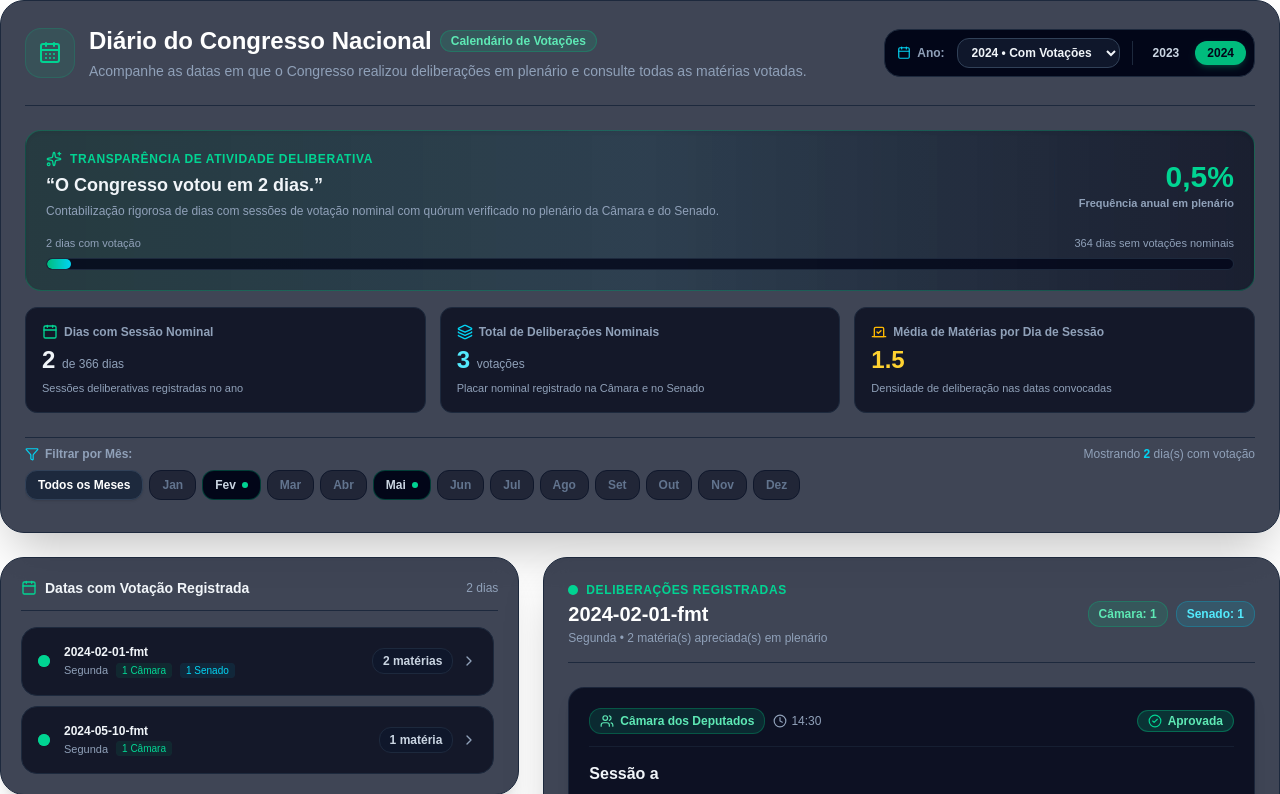
VotingCalendarPanel › seleciona outra data e filtra por mês (meses sem votação ficam desabilitados)
The image size is (1280, 794).
Check: the heading "Sessão a" is shown, box [589,765,659,782]
Click the button "2024-05-10-fmt Segunda 1 Câmara 1 matéria" at x=106, y=730, box [21,706,494,774]
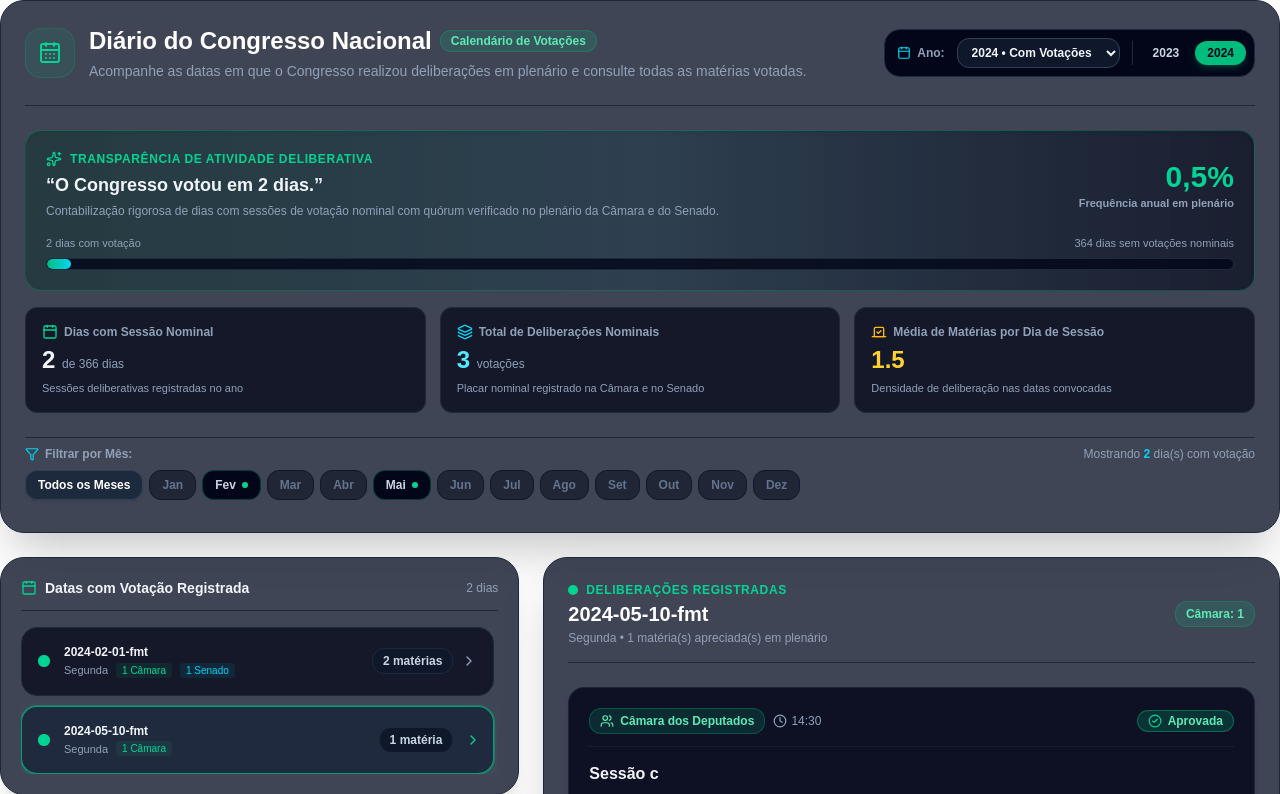
Check: the button "Jan" is disabled, box [150,470,196,500]
Check: the heading "Sessão c" is shown, box [589,765,659,782]
Check: the heading "Sessão a" is gone
Click the button "Fev" at x=232, y=485, box [202,470,261,500]
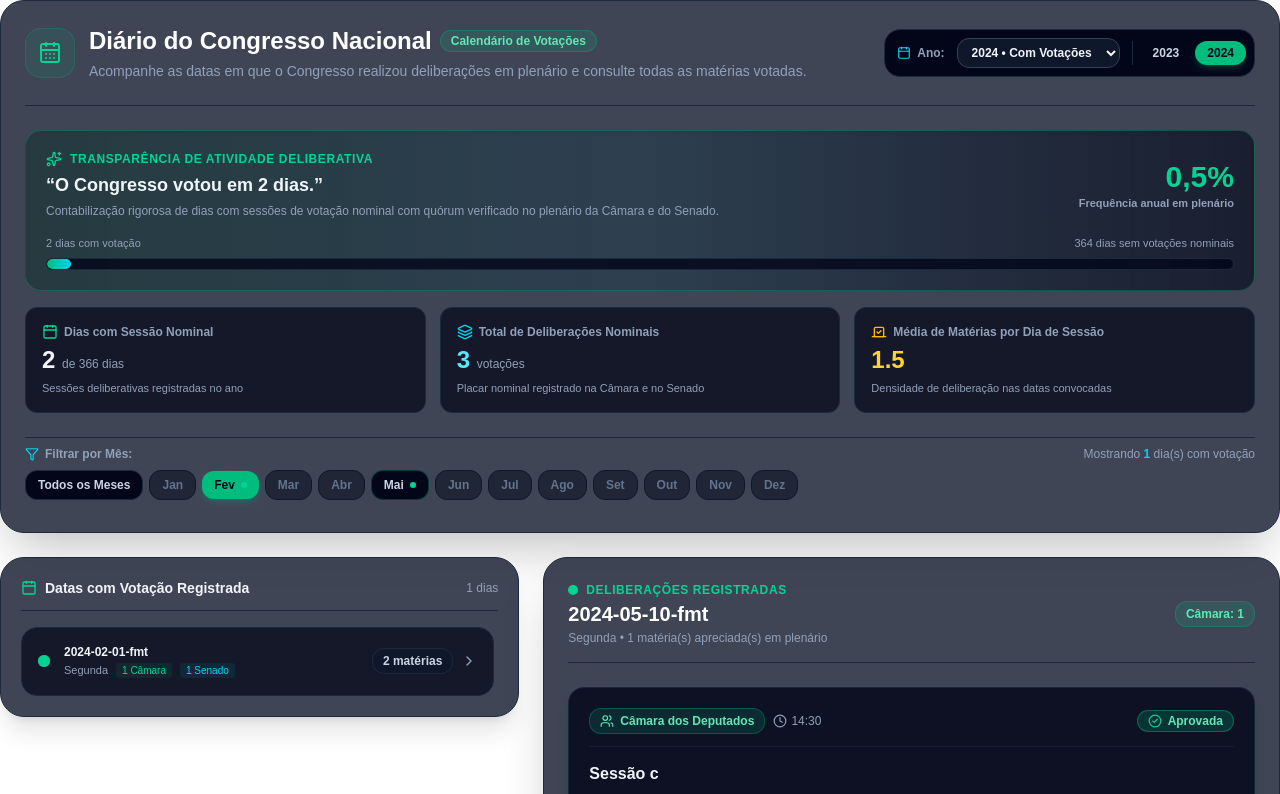
Check: the button "Fev" is pressed, box [202,471,259,499]
Click the button "Todos os Meses" at x=84, y=485, box [25,470,144,500]
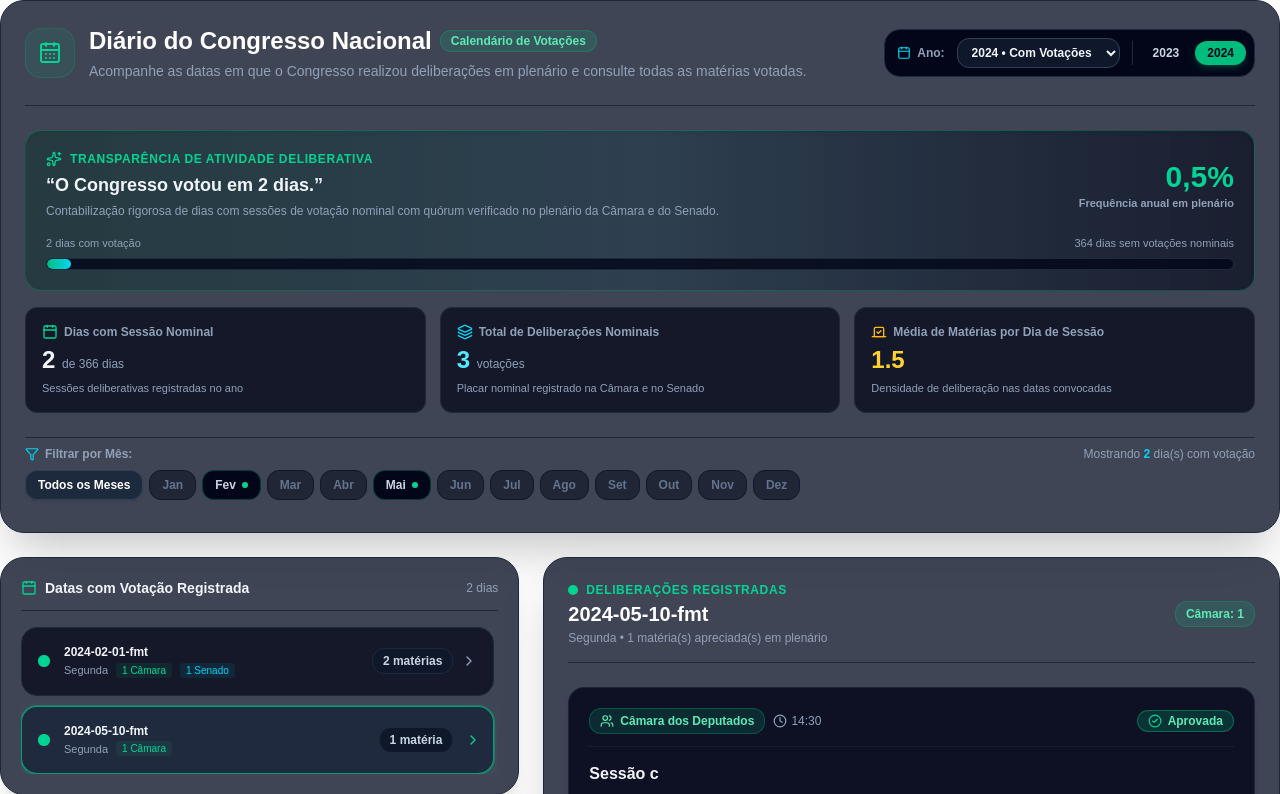
Check: the button "2024-05-10-fmt Segunda 1 Câmara 1 matéria" is shown, box [21,706,494,774]
